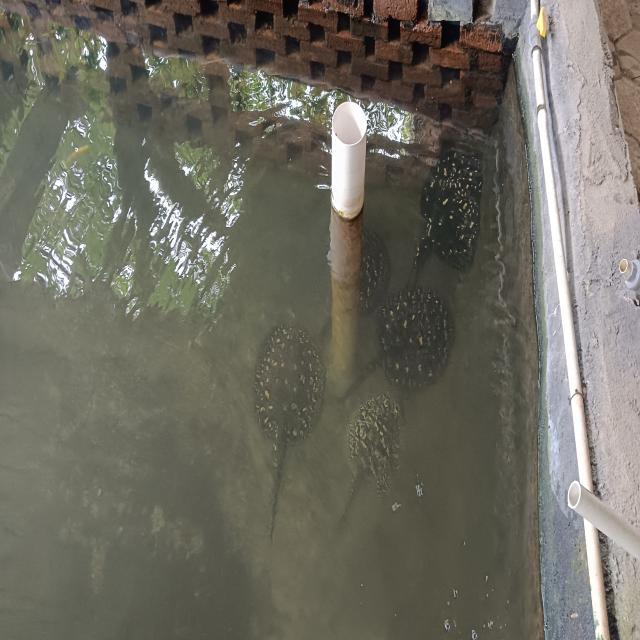black-diamond-sting-ray: (245, 306, 334, 550), (410, 123, 492, 294), (368, 270, 460, 404), (338, 378, 408, 547)
